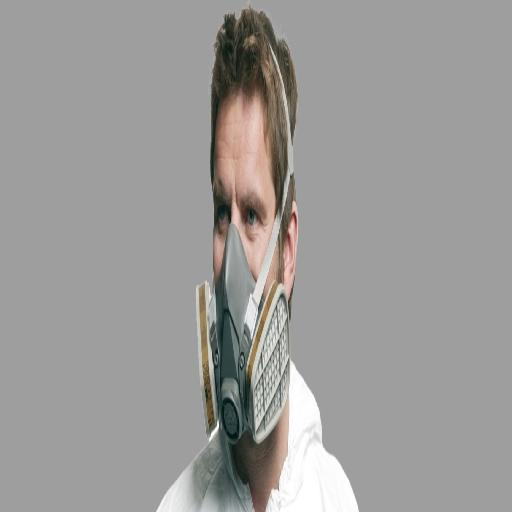mask: (192, 216, 295, 456)
